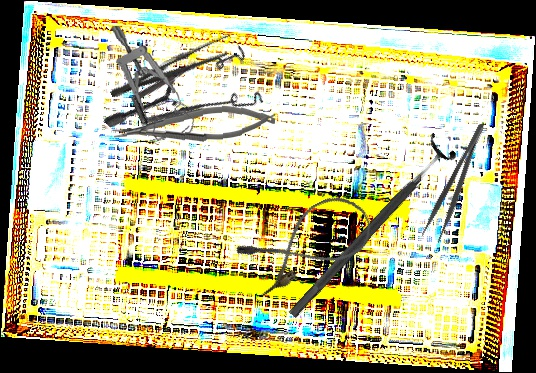Cannula: (233, 185, 380, 301)
Dressing Forceps: (107, 31, 237, 106), (419, 121, 497, 245)
Fixation Ring: (278, 131, 460, 328)
Needle Holder: (112, 102, 276, 147)
Speculum: (101, 12, 281, 193), (111, 18, 196, 145)
